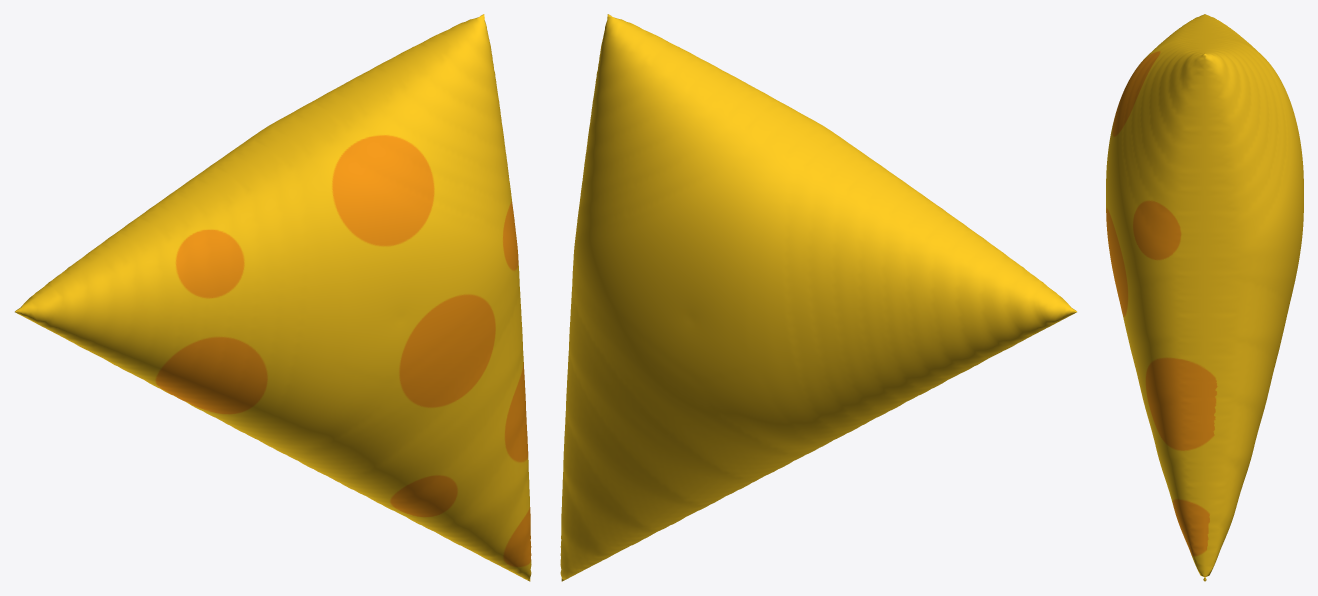
File: cheese.fbx
3 views of the same model, side by side, from view 1: azimuth 30°, elevation 25°; view 2: azimuth 150°, elevation 25°; view 3: azimuth 270°, elevation 25° (orthographic). The views are drawn at different scales.
Visible parts, largest first — view 1: nodes[0]; view 2: nodes[0]; view 3: nodes[0].
Boxes of the visible parts, left/top/right/bottom form: nodes[0]: left=15, top=14, right=531, bottom=581; nodes[0]: left=560, top=14, right=1076, bottom=581; nodes[0]: left=1106, top=14, right=1303, bottom=581.
Bounding box in the file's own units: 0.4029 × 0.4322 × 0.1525.
1 material, 1 textured.
